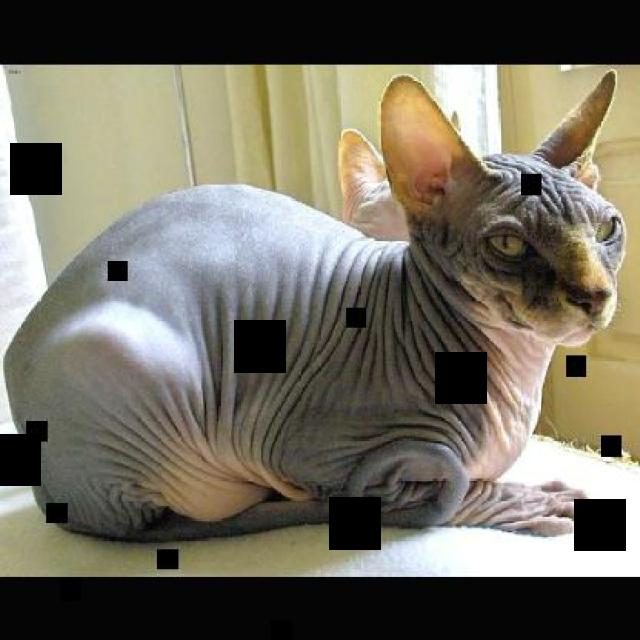unauthorized: (2, 68, 626, 542)
